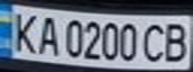0: (60, 16, 84, 60), (118, 19, 142, 63), (100, 19, 121, 62)
2: (81, 17, 103, 61)
A: (33, 12, 63, 56)
B: (160, 19, 193, 64)
C: (139, 20, 169, 64)
K: (6, 9, 42, 54)
